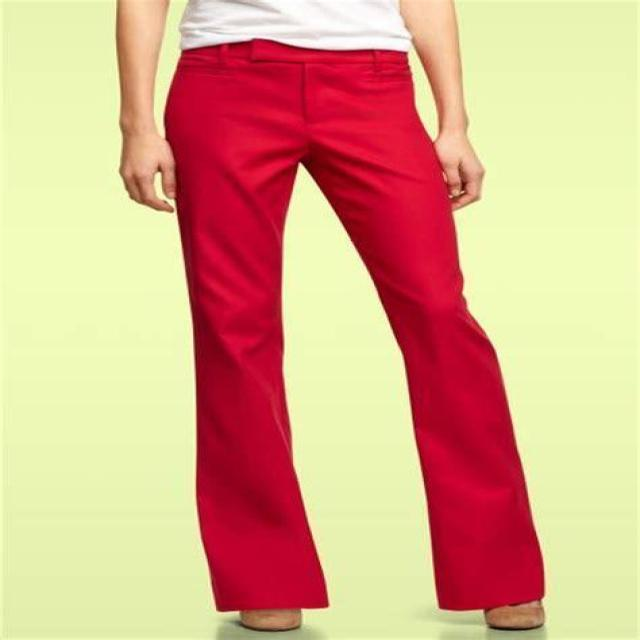pants: (165, 40, 548, 612)
